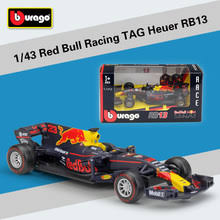FormulaOneCar: (6, 120, 217, 206)
